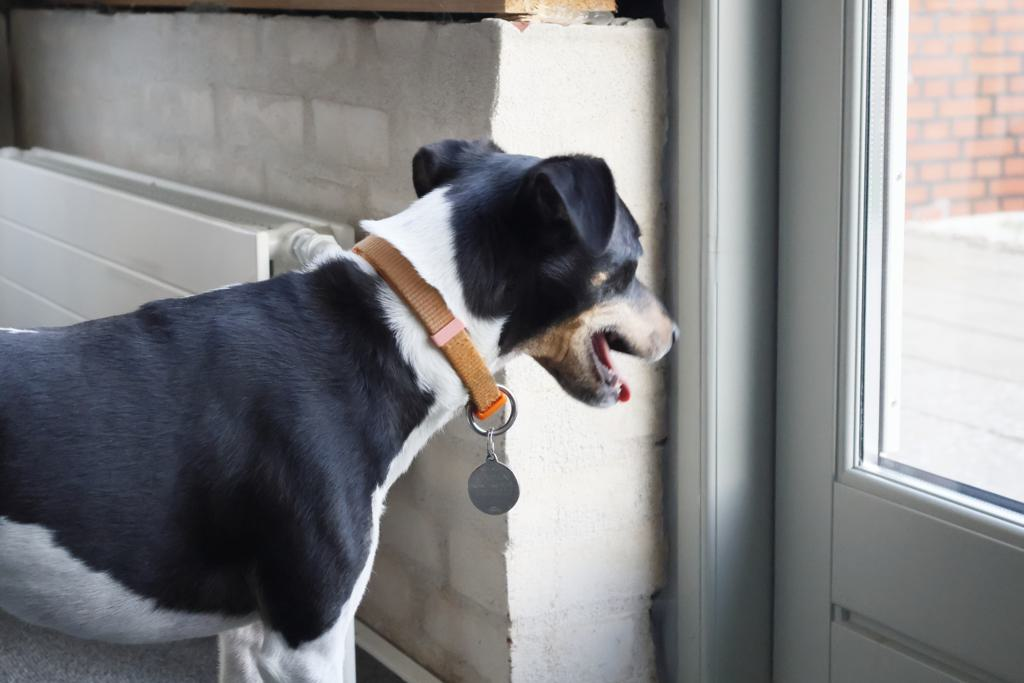Dog: (0, 131, 687, 683)
